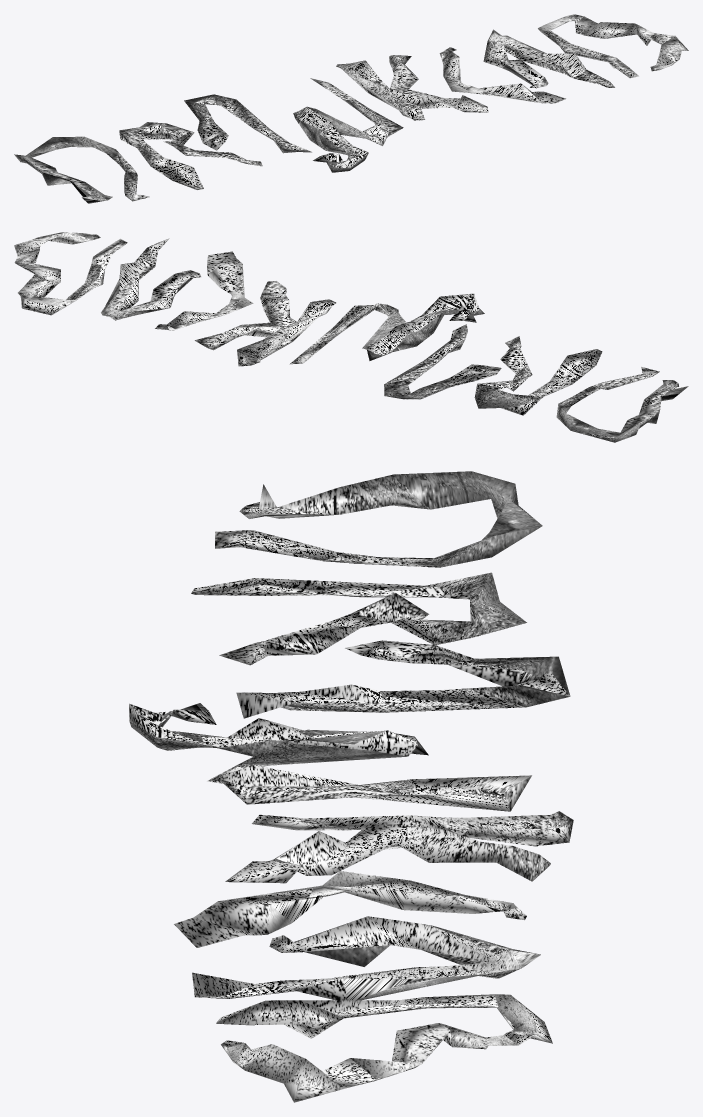
Rendered from 03_DRAWKCAB.glb.
The picture shows the model from 3 angles, top to bottom: view 1: azimuth 30°, elevation 25°; view 2: azimuth 150°, elevation 25°; view 3: azimuth 270°, elevation 25°; orthographic projection. The views are drawn at different scales.
Visible parts, largest first — view 1: 03_DRAWKCAB; view 2: 03_DRAWKCAB; view 3: 03_DRAWKCAB.
Boxes of the visible parts, x1,y1,x2,y2 form: 03_DRAWKCAB: (14, 14, 688, 203); 03_DRAWKCAB: (14, 232, 688, 442); 03_DRAWKCAB: (129, 471, 573, 1102).
Size of the model in its own units: 1.76 by 0.0487 by 0.5443.
1 material, 1 textured.
